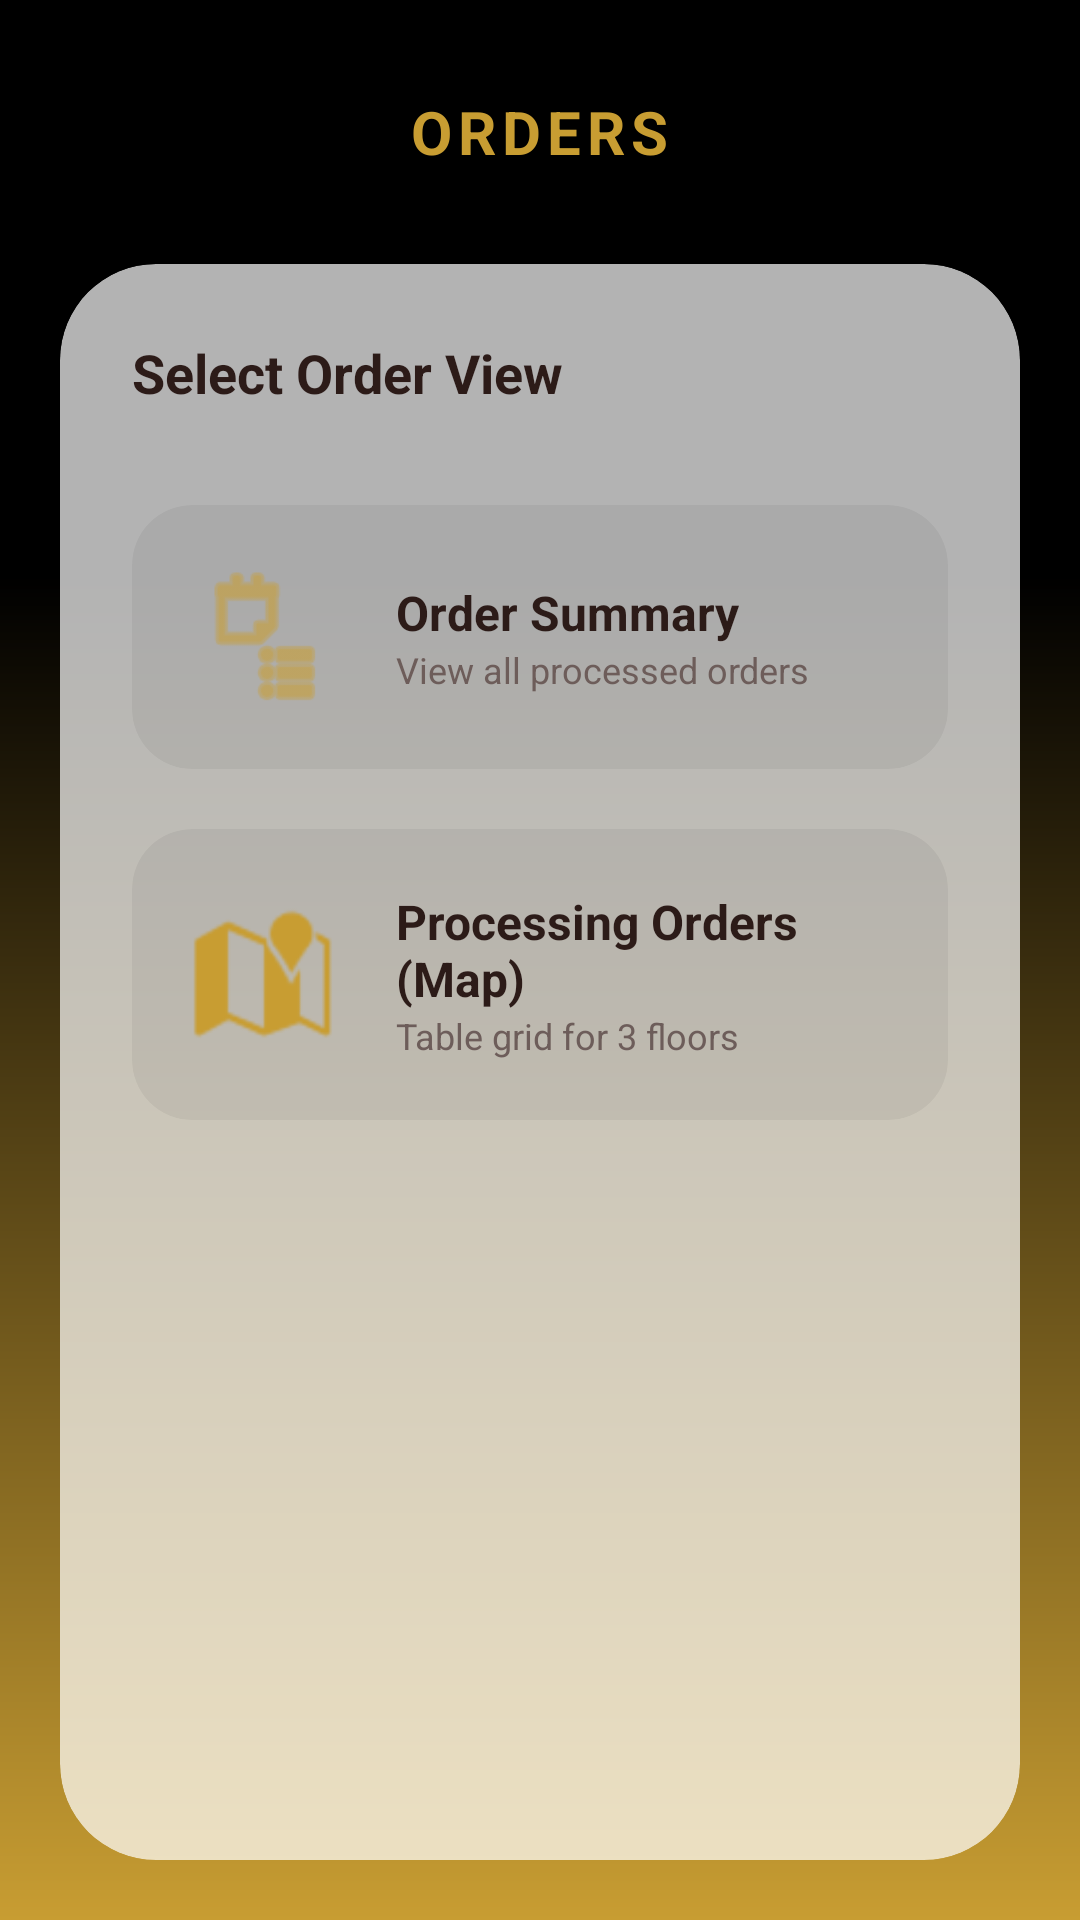

Where to tap for icons on this 1080px x 1920px app screen, as point (x, y):
agenda: point (264, 636)
